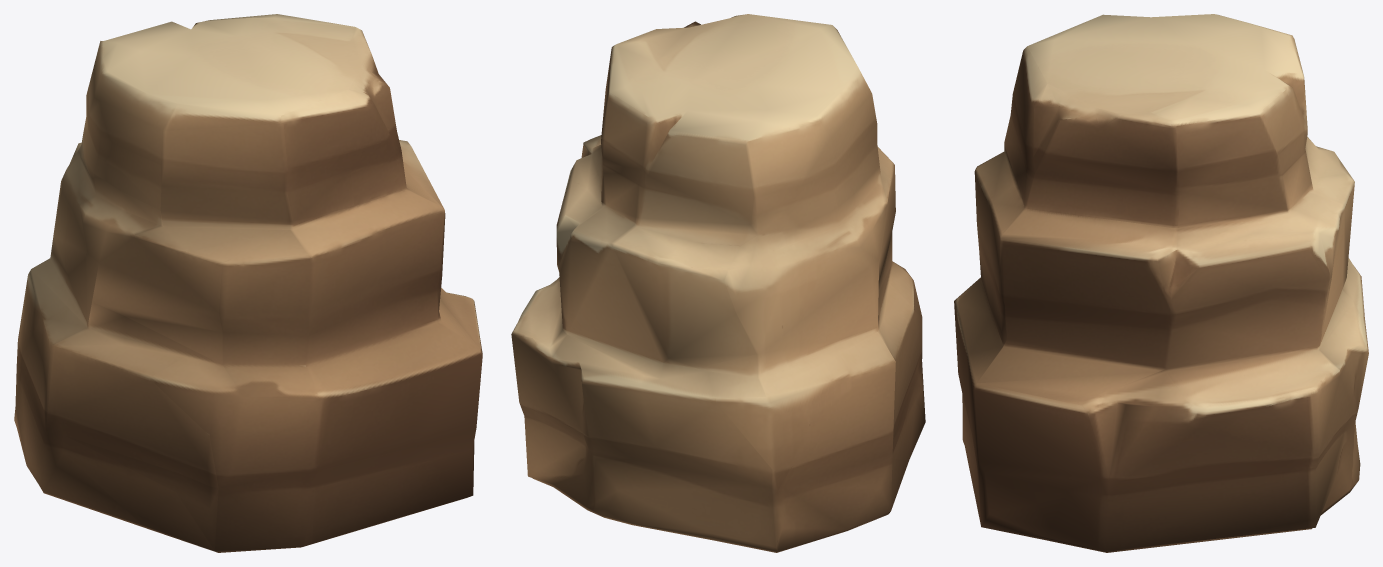
3 renders of one model, left to right at view 1: azimuth 30°, elevation 25°; view 2: azimuth 150°, elevation 25°; view 3: azimuth 270°, elevation 25°, orthographic. The views are drawn at different scales.
Visible parts, largest first — view 1: desert-rock-2; view 2: desert-rock-2; view 3: desert-rock-2.
Boxes of the visible parts, x1,y1,x2,y2 form: desert-rock-2: (14,14,482,552); desert-rock-2: (511,14,925,552); desert-rock-2: (954,14,1368,552).
Bounding box in the file's own units: 0.2854 × 0.3014 × 0.2777.
Materials: 1 (1 with a texture image).
